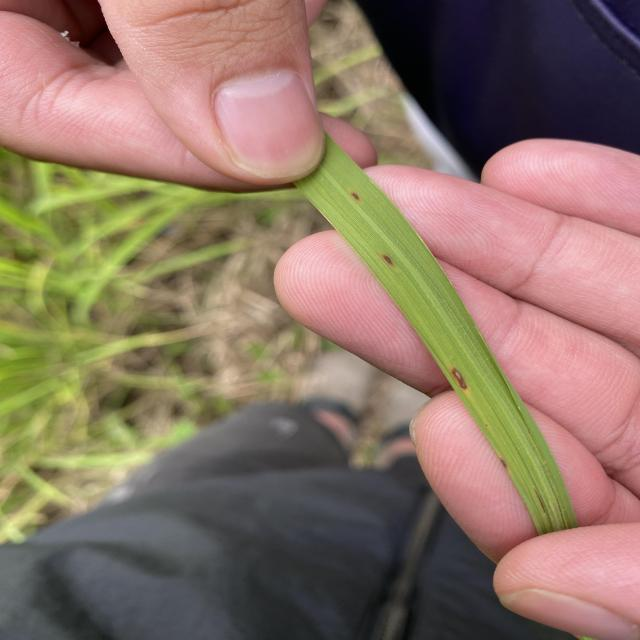Dom nau: (450, 366, 469, 391), (381, 253, 395, 267), (349, 192, 361, 202), (500, 458, 508, 469)
